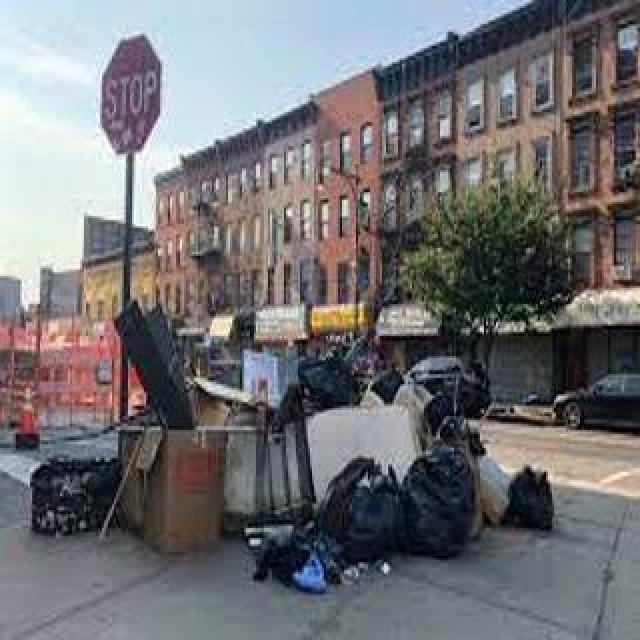high trash: (31, 306, 554, 592)
